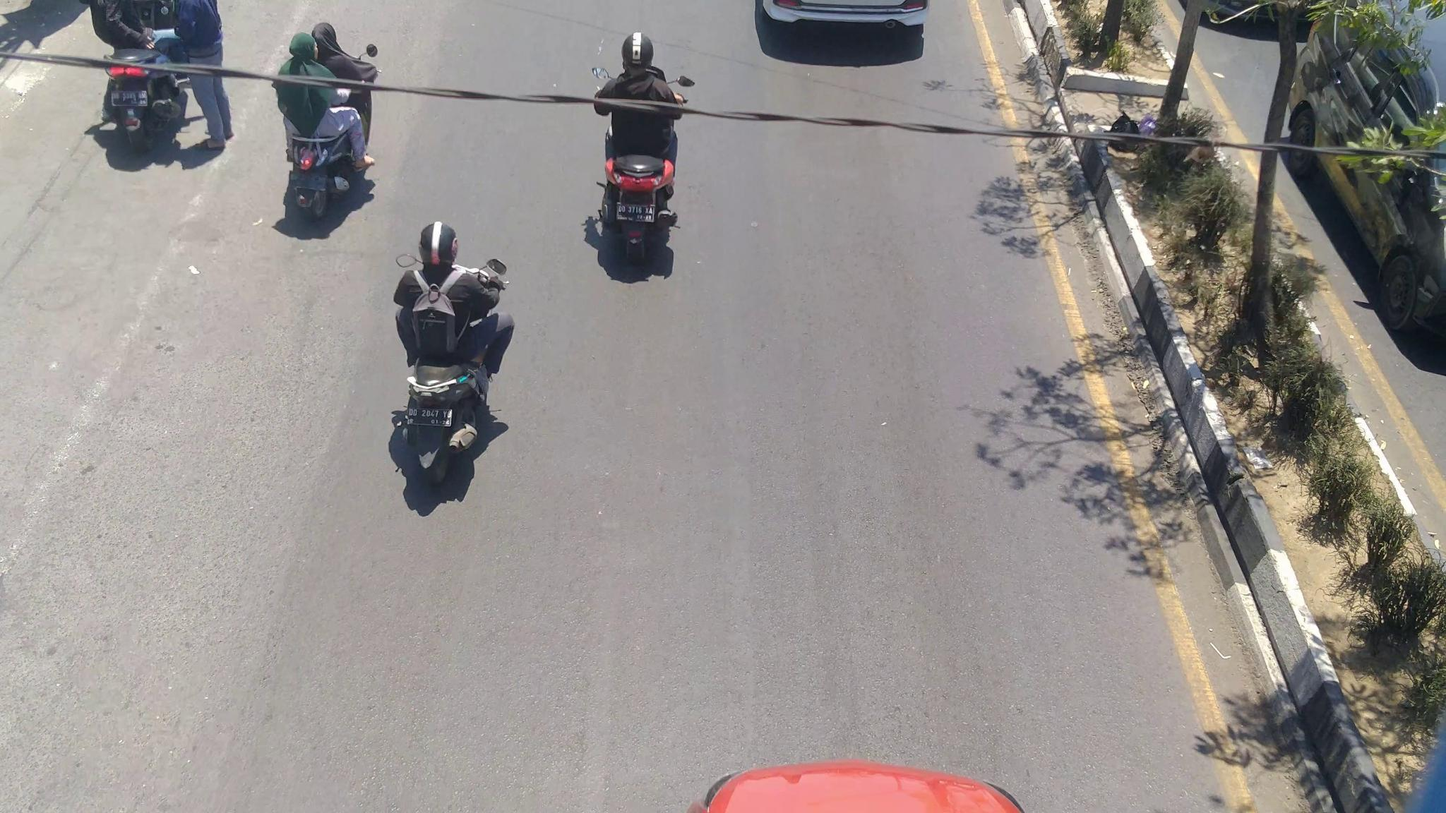Helmet: (411, 217, 466, 273), (613, 26, 659, 79)
bike: (391, 251, 511, 489), (588, 59, 696, 268), (274, 37, 379, 223)
no-helmet: (302, 18, 345, 60), (284, 28, 324, 70)
number-plate: (405, 403, 454, 428), (613, 203, 657, 223)
rider: (394, 215, 517, 392), (273, 29, 379, 170), (593, 30, 686, 160)
